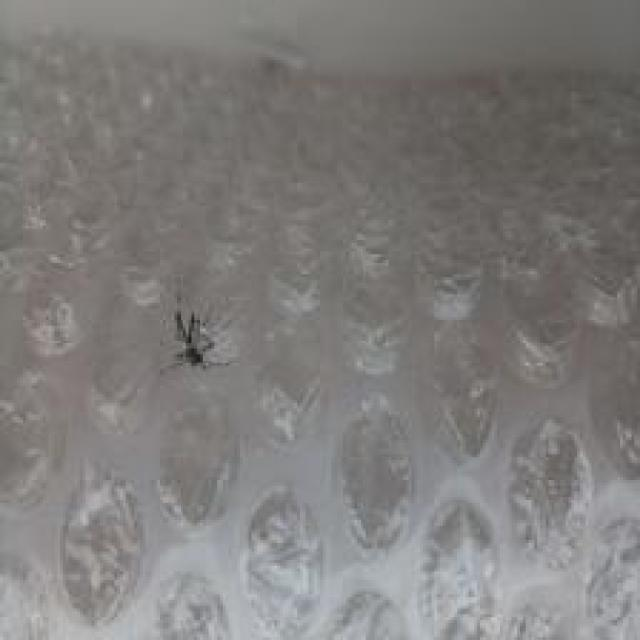Aedes albopictus: (160, 307, 231, 376)
